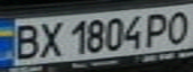0: (103, 15, 127, 52)
1: (63, 17, 87, 55)
4: (124, 11, 148, 50)
8: (84, 16, 109, 54)
B: (6, 20, 45, 61)
O: (163, 7, 193, 44)
P: (142, 10, 172, 47)
X: (36, 18, 66, 58)
